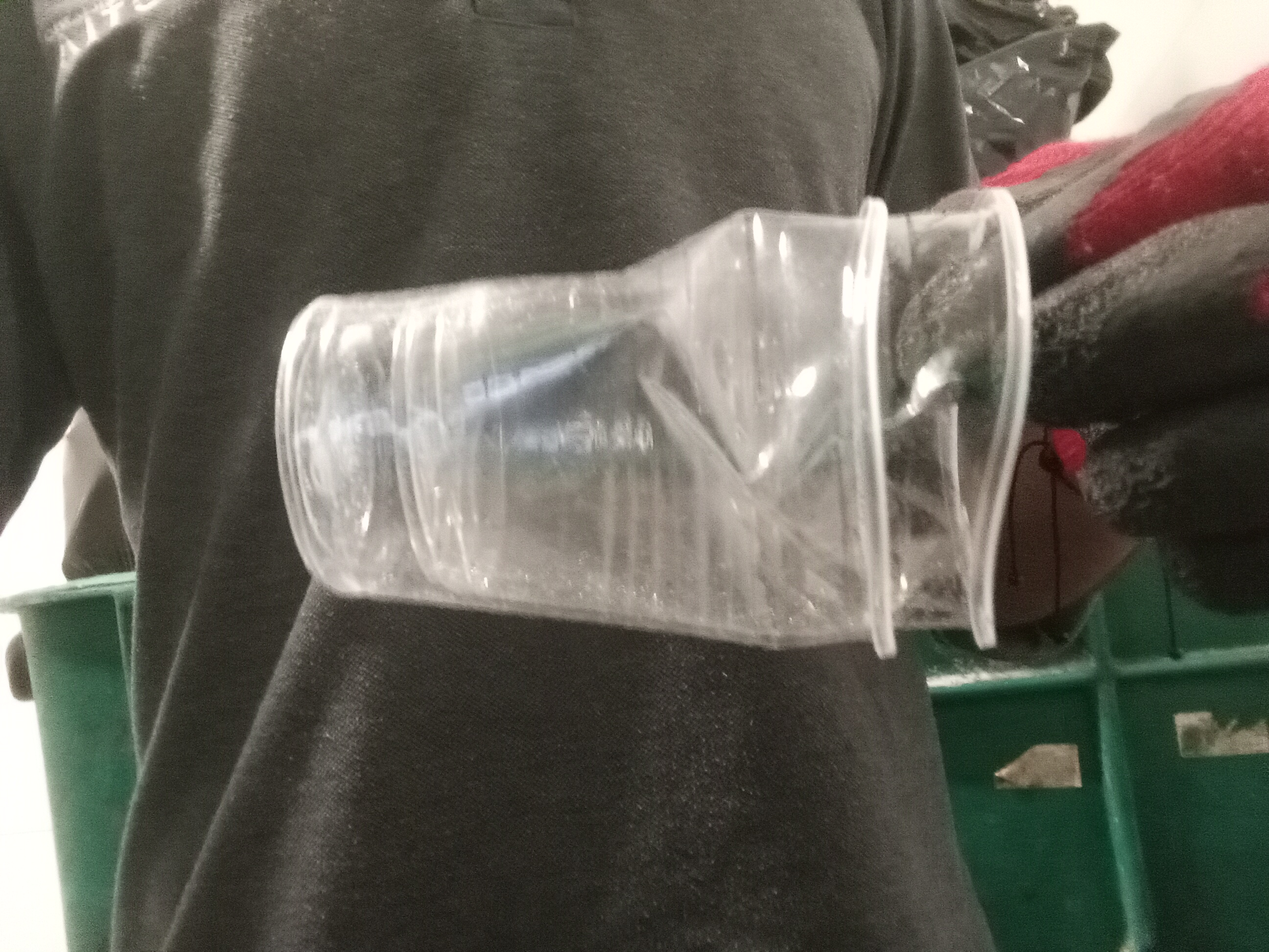Plastico: (271, 186, 1033, 659)
